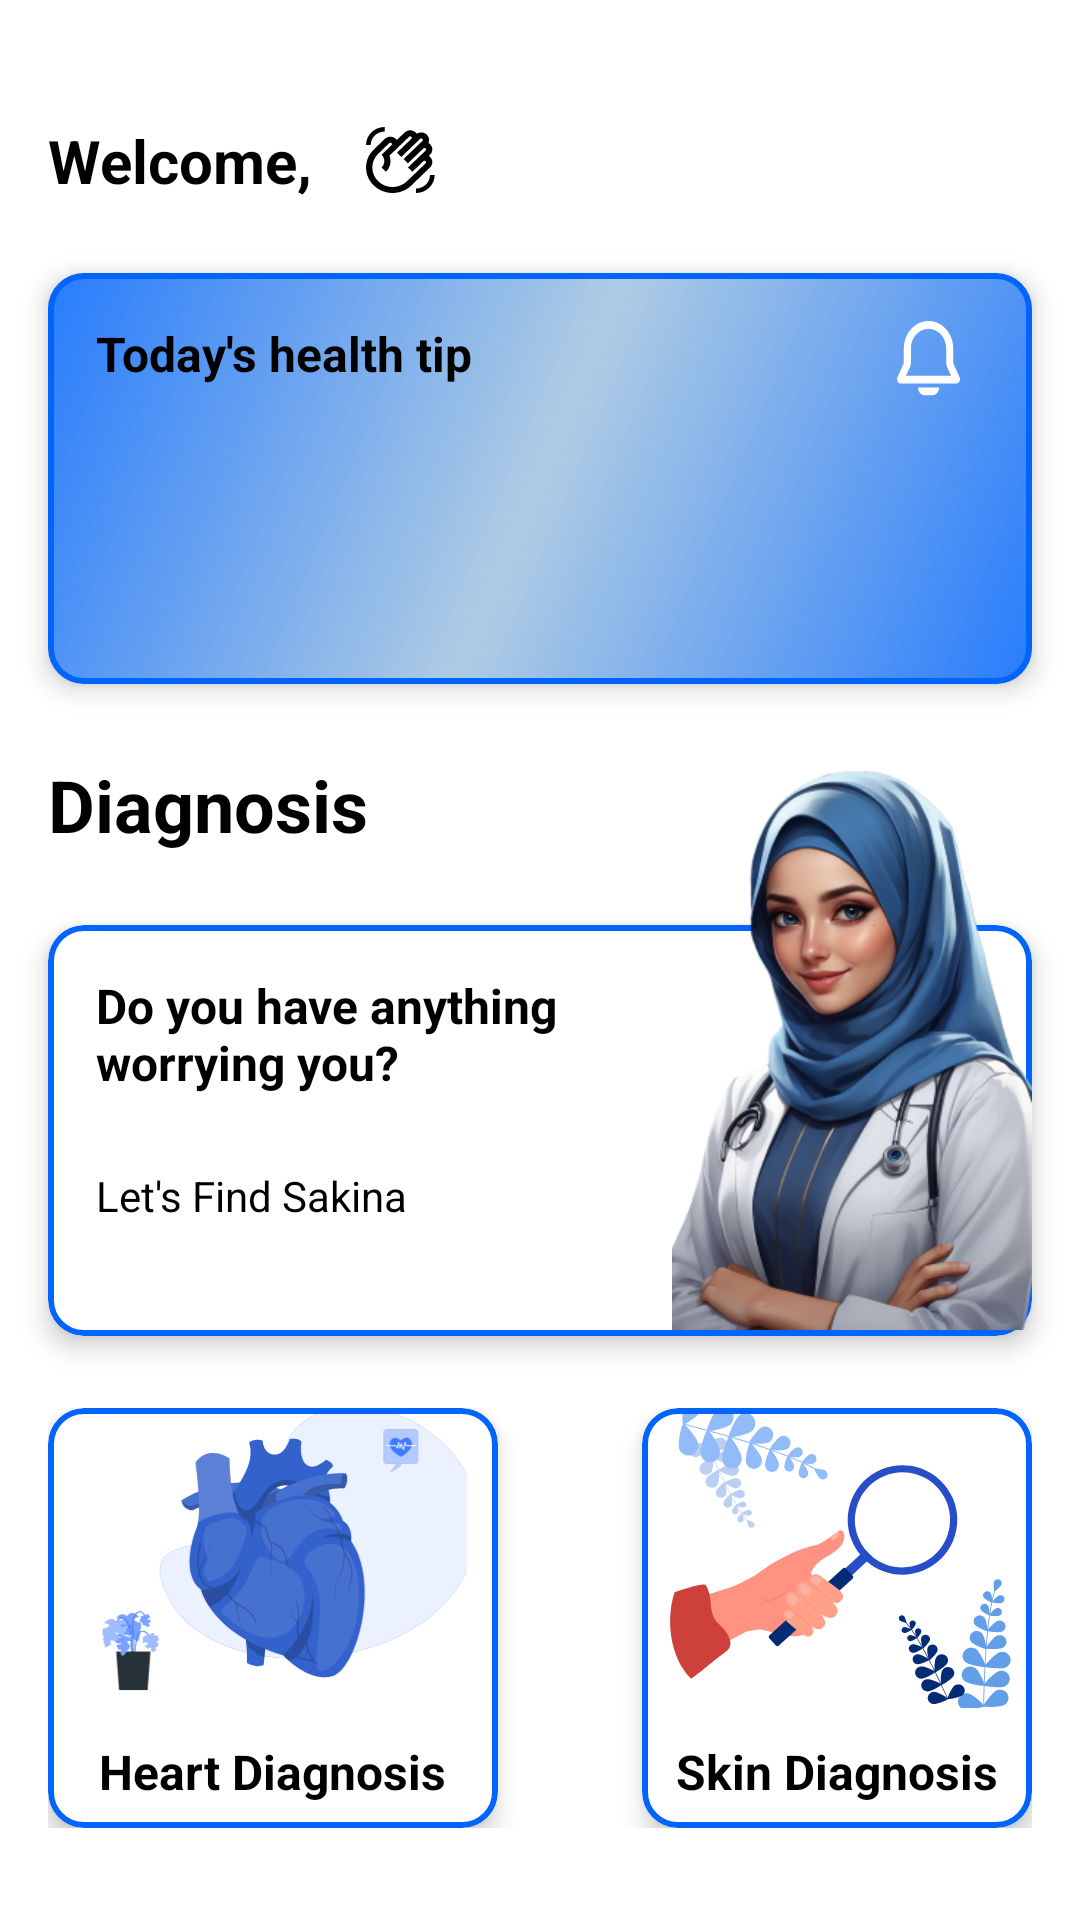

Icon click points for this 1080px x 1920px phone screenshot, format [x,y]:
notification: [928,358]
wave: [400,160]
